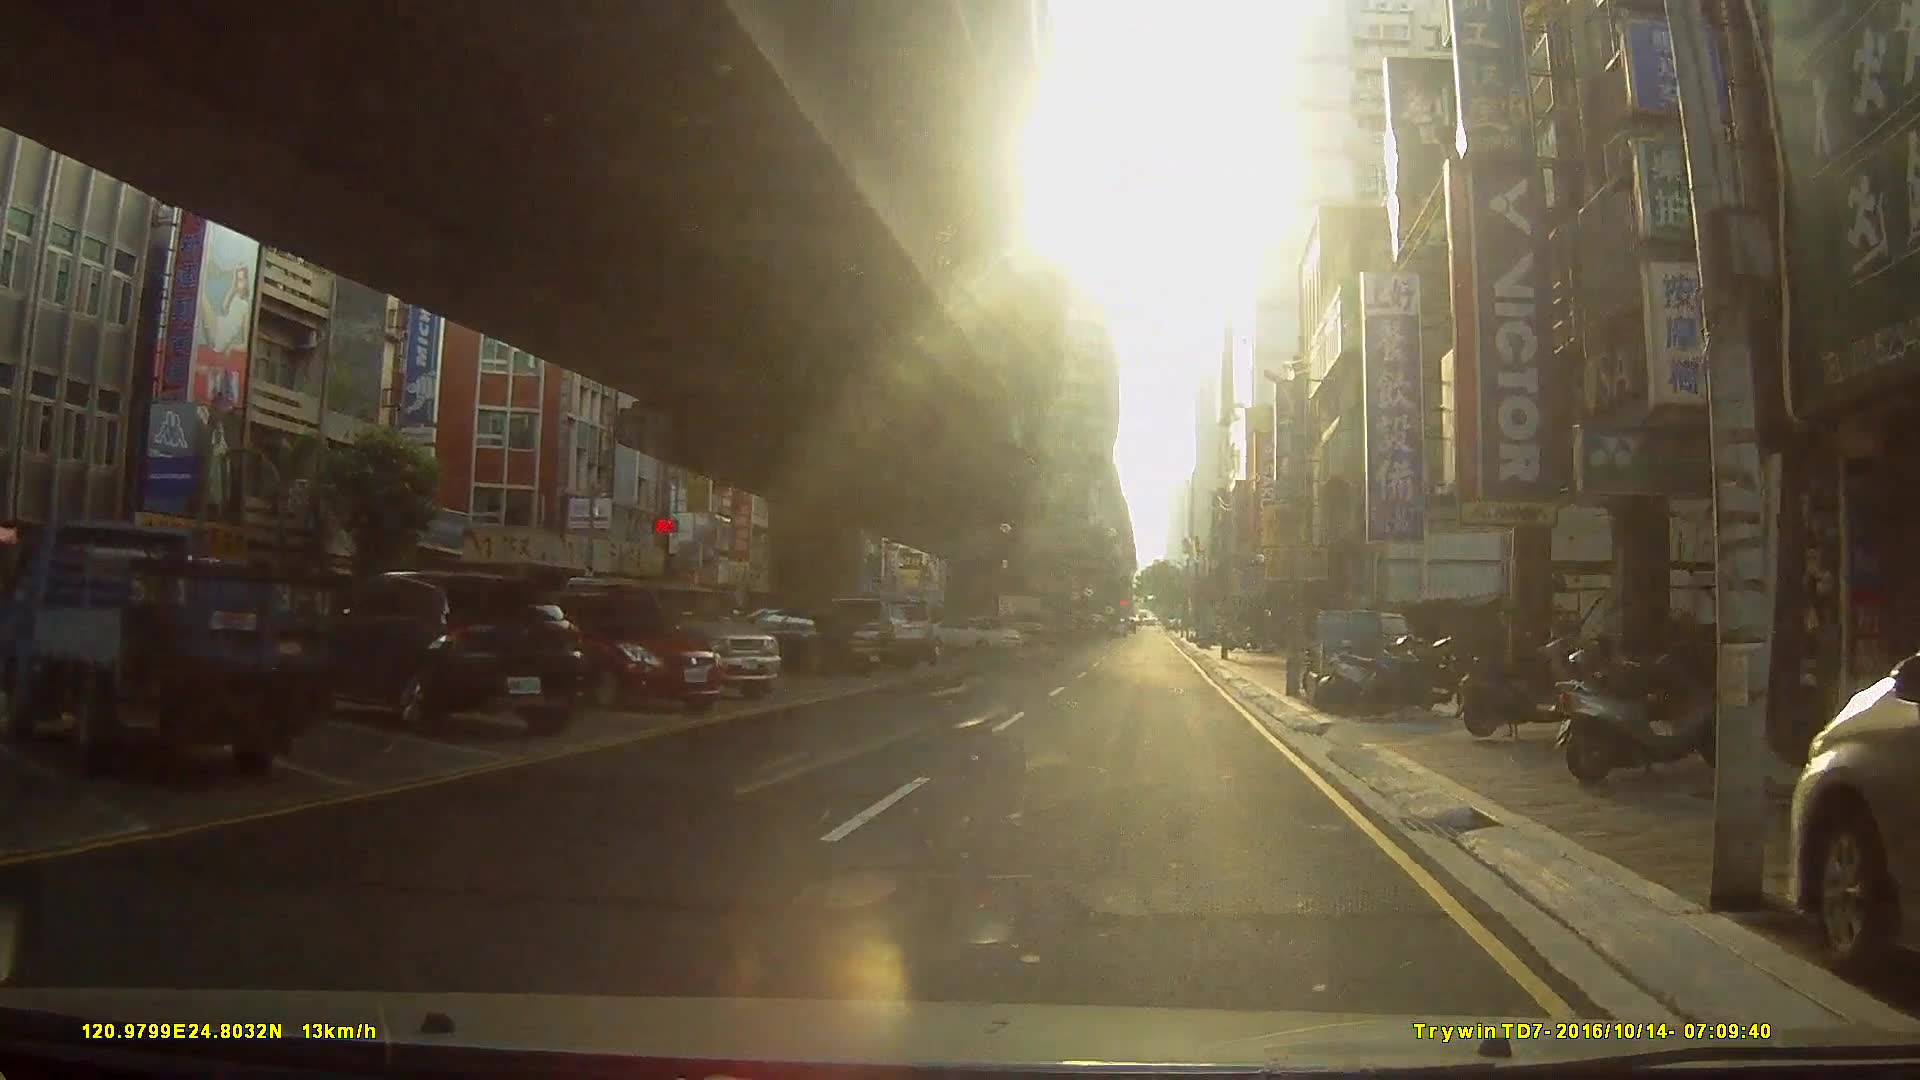vehicle: (0, 516, 340, 777), (309, 571, 580, 735), (1789, 647, 1920, 982), (559, 574, 782, 702), (518, 587, 727, 713), (713, 605, 884, 675), (794, 595, 938, 669), (928, 615, 1025, 654)
